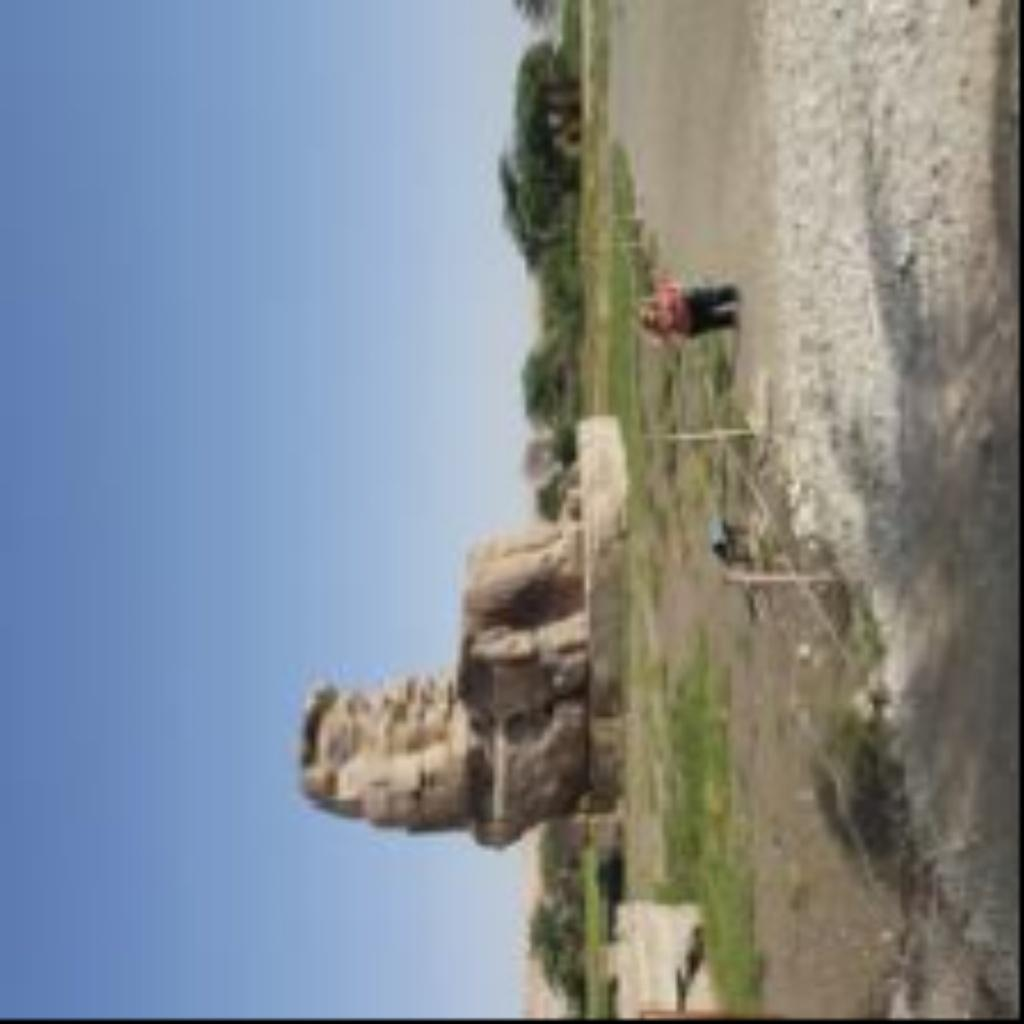Colossoi of Memnon: (288, 0, 1015, 1015)
